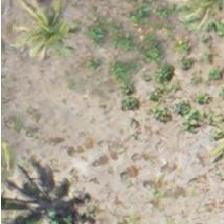Kelapa_Sawit: (1, 0, 91, 83)
